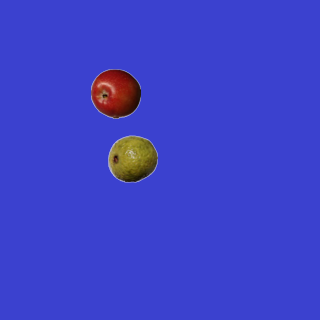Apple Braeburn: (90, 68, 140, 118)
Guava: (107, 133, 157, 183)
